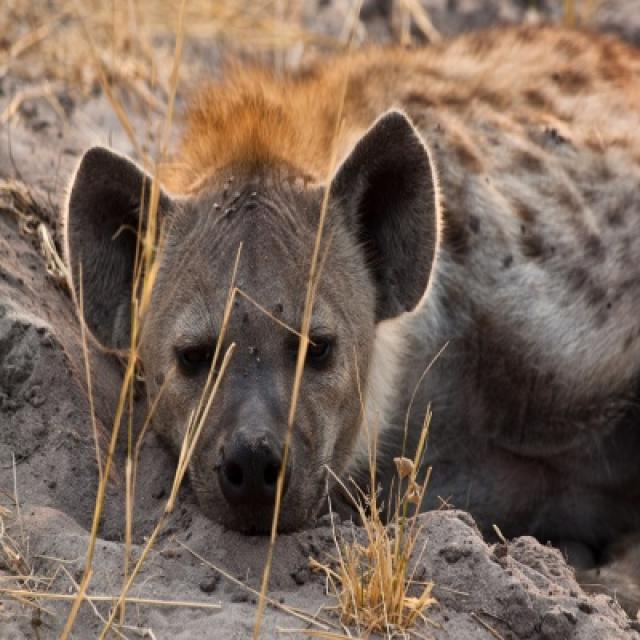hyena: (58, 22, 638, 590)
